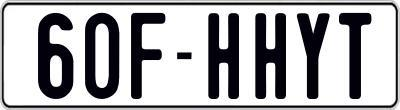0: (85, 12, 120, 104)
6: (37, 12, 77, 98)
F: (128, 10, 165, 101)
H: (206, 13, 242, 100), (255, 13, 288, 103)
T: (337, 12, 372, 98)
Y: (297, 13, 332, 103)
